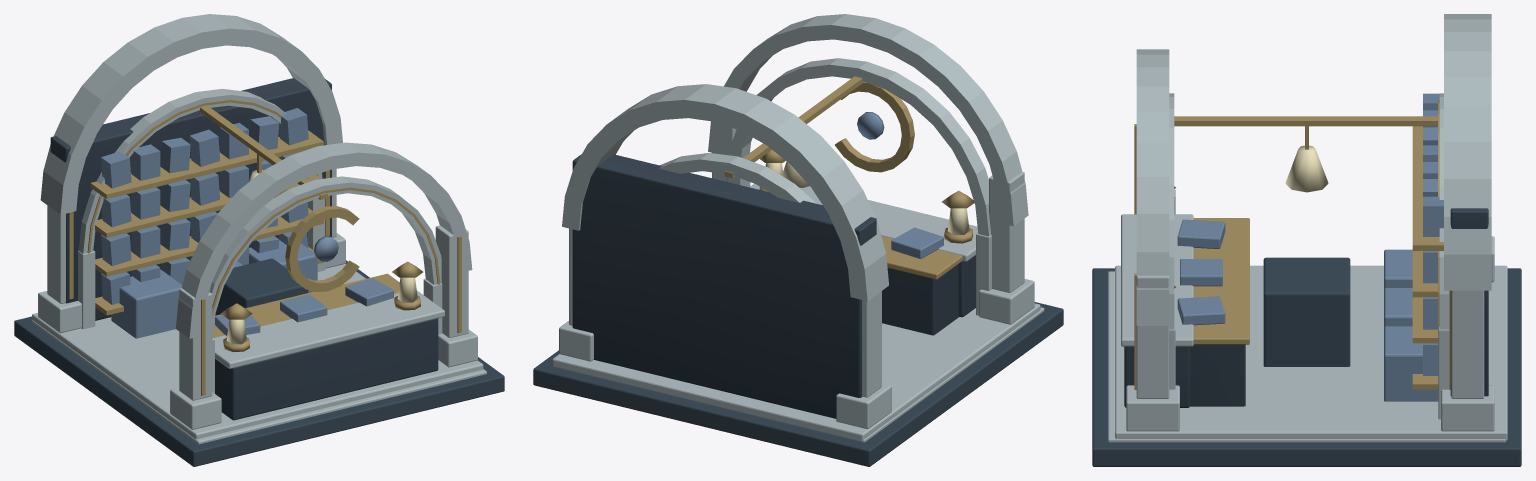
The model's file is moonveil-arrival-v1.glb.
3 renders of one model, left to right at view 1: azimuth 30°, elevation 25°; view 2: azimuth 150°, elevation 25°; view 3: azimuth 270°, elevation 25°, orthographic. The views are drawn at different scales.
Visible parts, largest first — view 1: GB_MOONVEIL_ARCHIVE_Geometry, GB_MOONVEIL_CURATOR_Geometry, GB_MOONVEIL_MASONRY_Geometry; view 2: GB_MOONVEIL_ARCHIVE_Geometry, GB_MOONVEIL_CURATOR_Geometry; view 3: GB_MOONVEIL_ARCHIVE_Geometry, GB_MOONVEIL_CURATOR_Geometry, GB_MOONVEIL_MASONRY_Geometry.
Boxes of the visible parts, bbox=[...] form: GB_MOONVEIL_ARCHIVE_Geometry: bbox=[14, 14, 504, 466]; GB_MOONVEIL_CURATOR_Geometry: bbox=[14, 88, 504, 466]; GB_MOONVEIL_MASONRY_Geometry: bbox=[215, 258, 308, 315]; GB_MOONVEIL_ARCHIVE_Geometry: bbox=[533, 14, 1063, 466]; GB_MOONVEIL_CURATOR_Geometry: bbox=[533, 58, 1063, 466]; GB_MOONVEIL_ARCHIVE_Geometry: bbox=[1092, 14, 1521, 465]; GB_MOONVEIL_CURATOR_Geometry: bbox=[1093, 93, 1520, 466]; GB_MOONVEIL_MASONRY_Geometry: bbox=[1263, 257, 1350, 366].
Size of the model in its own units: 4.96 by 4.4 by 4.96.
